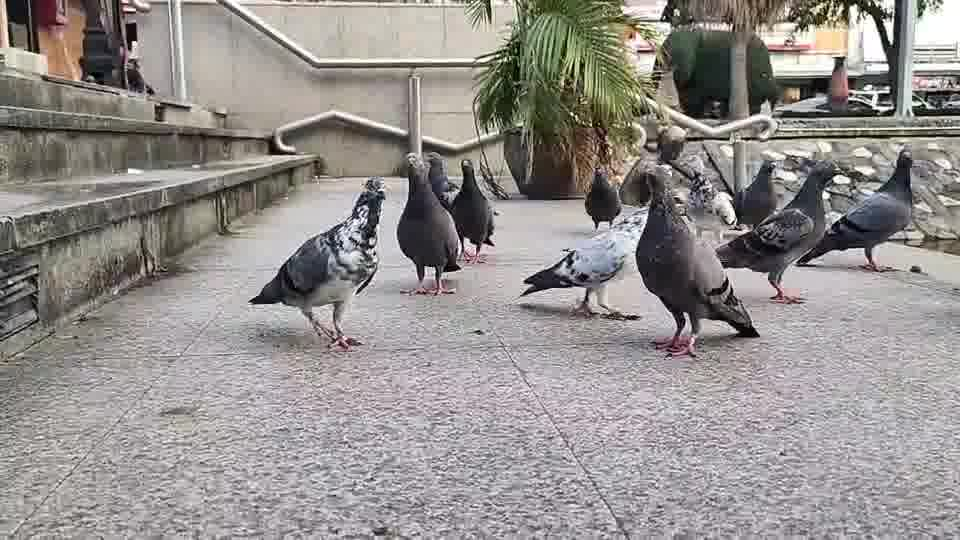Pigeon: (247, 175, 387, 351), (634, 165, 760, 358), (714, 157, 842, 304), (516, 205, 649, 320), (794, 147, 914, 272), (395, 151, 462, 296), (449, 158, 497, 263), (731, 158, 779, 229), (583, 165, 622, 231), (423, 150, 458, 209)
